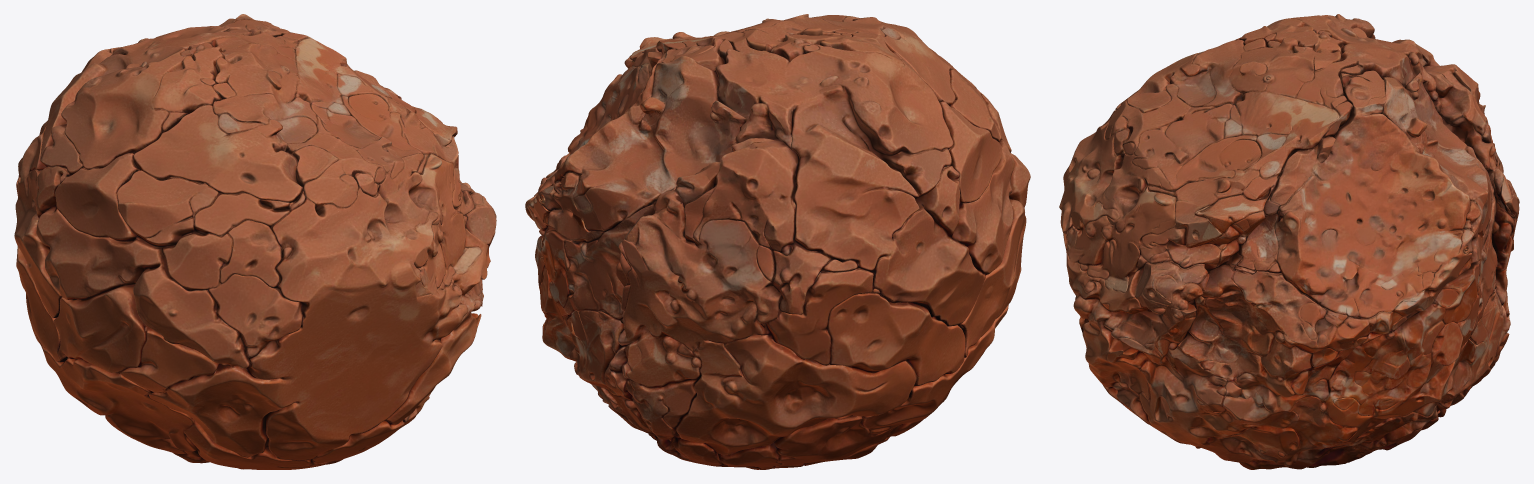
The model's file is mars_boulder.glb.
3 views of the same model, side by side, from view 1: azimuth 30°, elevation 25°; view 2: azimuth 150°, elevation 25°; view 3: azimuth 270°, elevation 25° (orthographic). The views are drawn at different scales.
Visible parts, largest first — view 1: tripo_node_09a496c9-8be6-4872-bb22-1cdb289959d5; view 2: tripo_node_09a496c9-8be6-4872-bb22-1cdb289959d5; view 3: tripo_node_09a496c9-8be6-4872-bb22-1cdb289959d5.
Boxes of the visible parts, x1,y1,x2,y2 form: tripo_node_09a496c9-8be6-4872-bb22-1cdb289959d5: (14, 14, 496, 469); tripo_node_09a496c9-8be6-4872-bb22-1cdb289959d5: (525, 14, 1030, 469); tripo_node_09a496c9-8be6-4872-bb22-1cdb289959d5: (1059, 14, 1519, 469).
Bounding box in the file's own units: 0.9813 × 0.8901 × 0.9761.
1 material, 1 textured.
